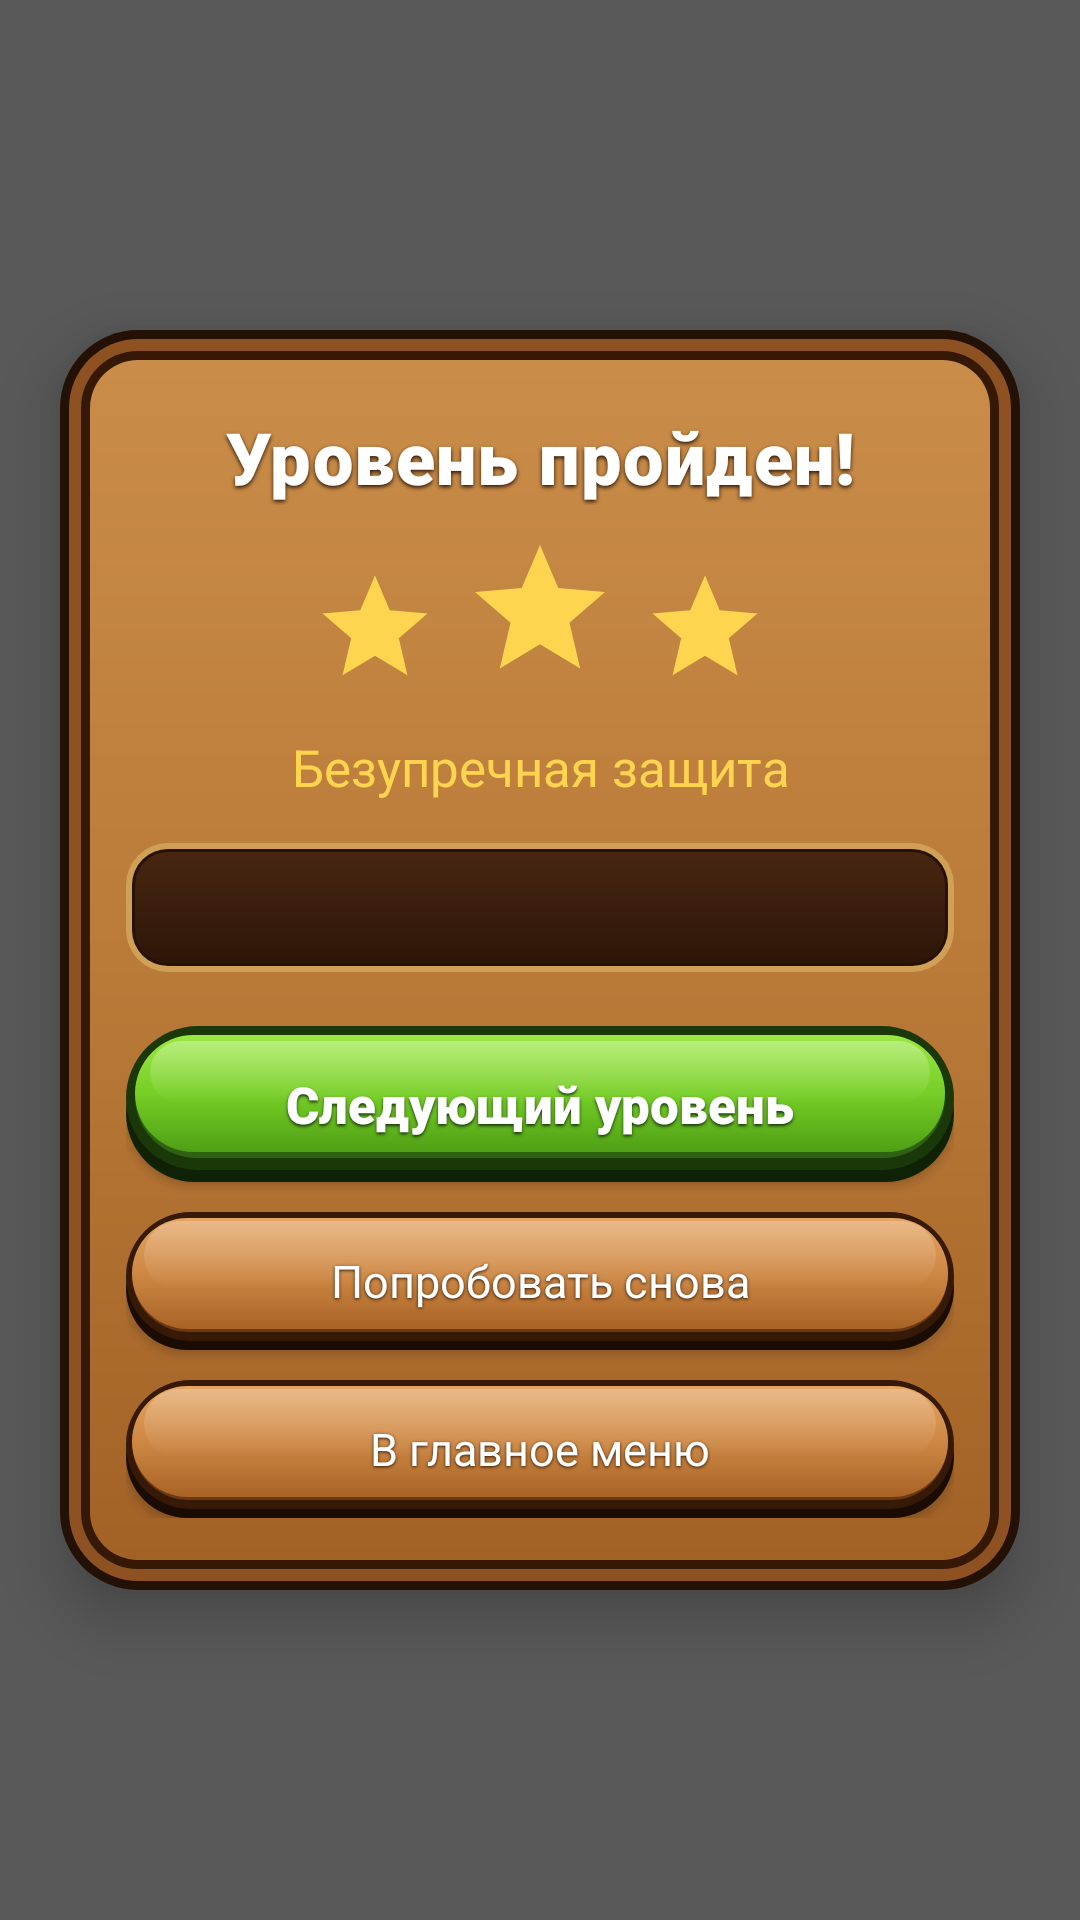

Screen size 1080×1920. Icon name, then its box in pixels as (left=x1, top=y1, right=x2, bottom=y2):
Звезда 1: (left=323, top=576, right=427, bottom=675)
Звезда 2: (left=475, top=546, right=605, bottom=668)
Звезда 3: (left=653, top=576, right=757, bottom=675)
